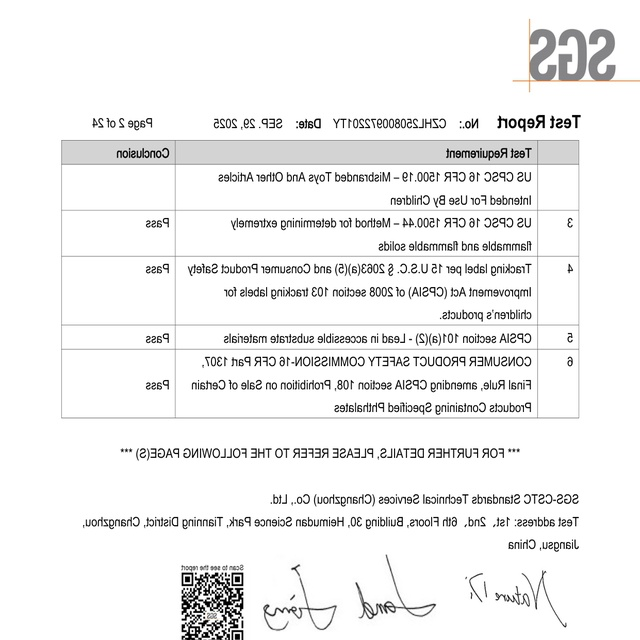sgs: (530, 28, 615, 81)
